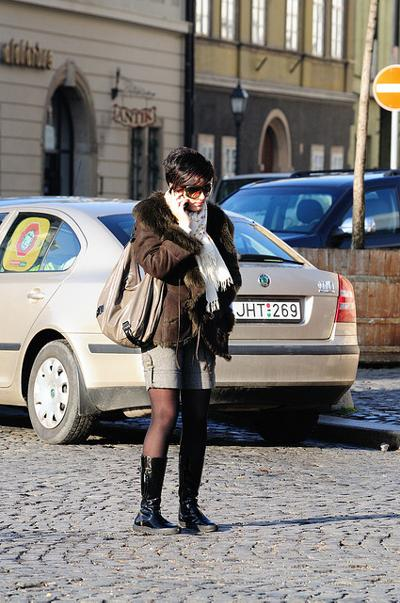person: (131, 148, 243, 530)
